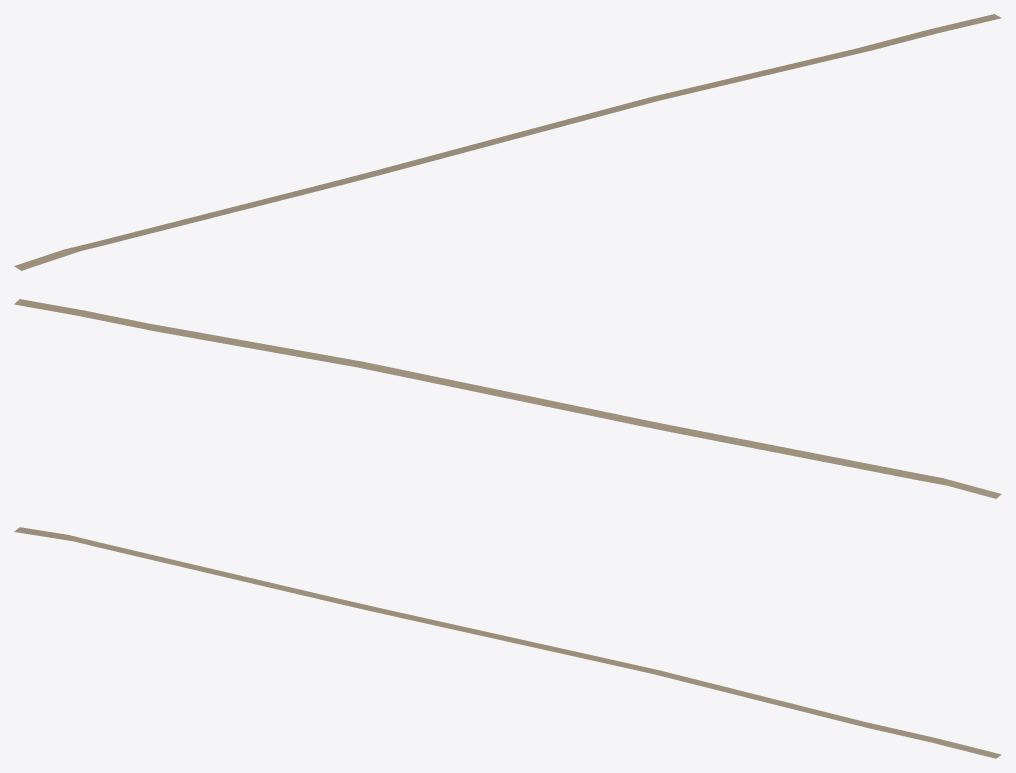
Rendered from farm_7_-2_track.glb.
3 renders of one model, top to bottom at view 1: azimuth 30°, elevation 25°; view 2: azimuth 150°, elevation 25°; view 3: azimuth 330°, elevation 25°, orthographic. The views are drawn at different scales.
Visible parts, largest first — view 1: geometry_0; view 2: geometry_0; view 3: geometry_0.
Part boxes in pixels (x1,y1,x2,y2): geometry_0: (14, 14, 1001, 270); geometry_0: (14, 299, 1001, 498); geometry_0: (14, 527, 1001, 758).
Bounding box in the file's own units: 282 × 5.61 × 18.32.
